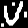u: (0, 0, 28, 28)
